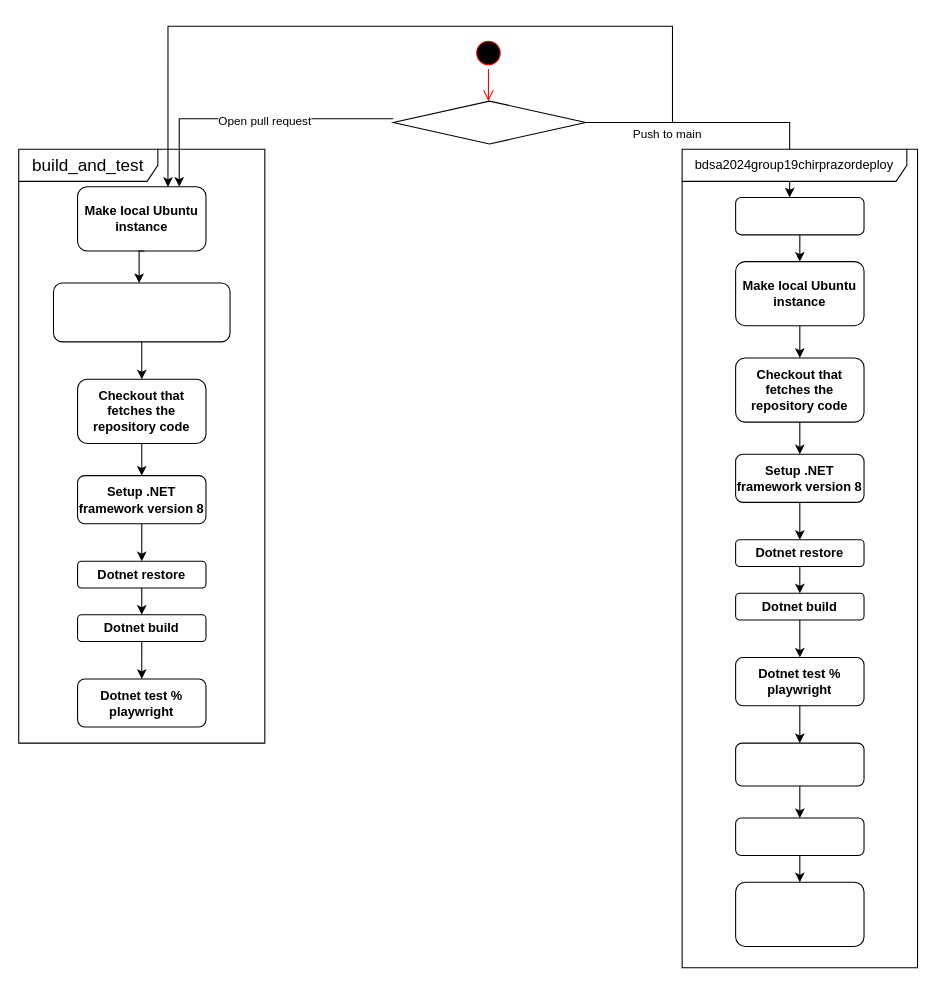
Image size: 936x987. Some labels were removed from this diagram. Here are the shapes that lost their labels. From the top down, the centre of each, then its label:
At point 489,122: "Github action trigger".
At point 799,215: "Setup environment variables".
At point 141,312: "Get and stores environment variable, on the local Ubuntu instance".
At point 799,764: "Upload and download artifact".
At point 799,836: "Deploy to Azure".
At point 799,913: "Forwards environment variables to Azure".
